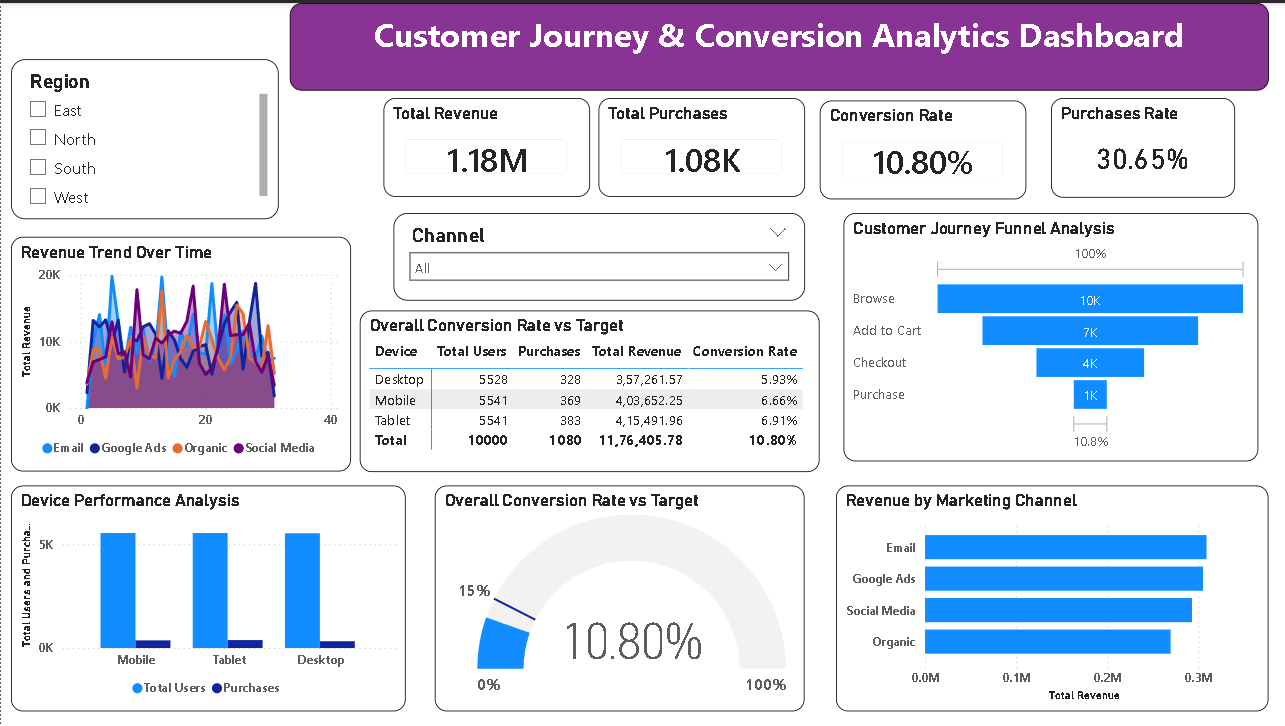

The page's visual inventory and layout, read from the dashboard file:
{"tool":"powerbi","page":{"name":"Executive Summary","canvas":[1280,720],"ordinal":0},"visuals":[{"type":"funnel","title":"Customer Journey Funnel Analysis","fields":{"Category":["funnel_analysis_data.Event"],"Y":["funnel_analysis_data.Total Users"]},"box":[838.4,209,413,247.5],"z":0},{"type":"textbox","box":[287.4,0,974,87.1],"z":1000},{"type":"slicer","fields":{"Values":["funnel_analysis_data.Region"]},"box":[10,56,266.2,159.2],"z":2000},{"type":"clusteredBarChart","title":"Revenue by Marketing Channel","fields":{"Category":["funnel_analysis_data.Channel"],"Y":["funnel_analysis_data.Total Revenue"]},"box":[831,480.2,430.4,225.2],"z":3000},{"type":"slicer","fields":{"Values":["funnel_analysis_data.Channel"]},"box":[390.6,209,409.3,87.1],"z":4000},{"type":"clusteredColumnChart","title":"Device Performance Analysis","fields":{"Category":["funnel_analysis_data.Device"],"Y":["funnel_analysis_data.Total Users","funnel_analysis_data.Purchases"]},"box":[10,480.2,393.1,225.2],"z":5000},{"type":"cardVisual","title":"Total Revenue","fields":{"Data":["funnel_analysis_data.Total Revenue"]},"box":[380.7,94.5,205.3,98.3],"z":6000},{"type":"cardVisual","title":"Total Purchases","fields":{"Data":["funnel_analysis_data.Purchases"]},"box":[594.6,94.5,205.3,98.3],"z":7000},{"type":"cardVisual","title":"Conversion Rate ","fields":{"Data":["funnel_analysis_data.Conversion Rate"]},"box":[814.8,97,205.3,98.3],"z":8000},{"type":"card","title":"Purchases Rate","fields":{"Values":["funnel_analysis_data.Purchase Rate"]},"box":[1044.9,94.5,182.9,99.5],"z":9000},{"type":"gauge","title":"Overall Conversion Rate vs Target","fields":{"Y":["funnel_analysis_data.Conversion Rate"],"TargetValue":["funnel_analysis_data.Conversion Target"]},"box":[431.7,480.2,368.2,225.2],"z":9001},{"type":"pivotTable","title":"Overall Conversion Rate vs Target","fields":{"Rows":["funnel_analysis_data.Device"],"Values":["funnel_analysis_data.Total Users","funnel_analysis_data.Purchases","funnel_analysis_data.Total Revenue","funnel_analysis_data.Conversion Rate"]},"box":[357,306,457.8,160.5],"z":9002},{"type":"areaChart","title":"Revenue Trend Over Time","fields":{"Y":["funnel_analysis_data.Total Revenue"],"Series":["funnel_analysis_data.Channel"],"Category":["funnel_analysis_data.Date.Variation.Date Hierarchy.Day"]},"box":[10,232.6,338.4,233.9],"z":9003}]}

Visuals, with their boxes in screenshot pixels (x1, y1, x2, y2), scaled from the page's 1280x720 canvas onto the 1285x726 screenshot:
"Customer Journey Funnel Analysis" funnel: region(842, 211, 1256, 460)
textbox: region(289, 0, 1266, 88)
slicer - funnel_analysis_data.Region: region(10, 56, 277, 217)
"Revenue by Marketing Channel" clusteredBarChart: region(834, 484, 1266, 711)
slicer - funnel_analysis_data.Channel: region(392, 211, 803, 299)
"Device Performance Analysis" clusteredColumnChart: region(10, 484, 405, 711)
"Total Revenue" cardVisual: region(382, 95, 588, 194)
"Total Purchases" cardVisual: region(597, 95, 803, 194)
"Conversion Rate " cardVisual: region(818, 98, 1024, 197)
"Purchases Rate" card: region(1049, 95, 1233, 196)
"Overall Conversion Rate vs Target" gauge: region(433, 484, 803, 711)
"Overall Conversion Rate vs Target" pivotTable: region(358, 309, 818, 470)
"Revenue Trend Over Time" areaChart: region(10, 235, 350, 470)
